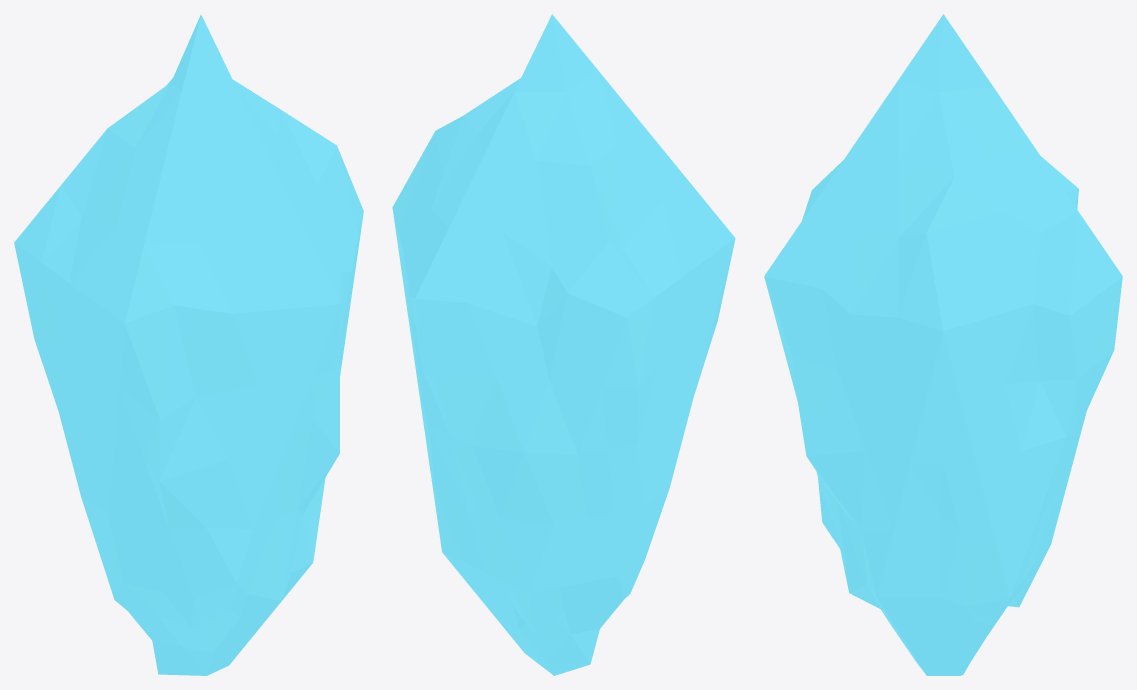
File: crystals_uniform_mesh.glb
3 views of the same model, side by side, from view 1: azimuth 30°, elevation 25°; view 2: azimuth 150°, elevation 25°; view 3: azimuth 270°, elevation 25° (orthographic). The views are drawn at different scales.
Parts seen in each view (by area): view 1: CrystalShard_01; view 2: CrystalShard_01; view 3: CrystalShard_01.
Part boxes in pixels (<box>): CrystalShard_01: <box>14,14,363,675</box>; CrystalShard_01: <box>392,14,735,675</box>; CrystalShard_01: <box>764,14,1122,675</box>.
Bounding box in the file's own units: 1.7 × 3.66 × 1.79.
